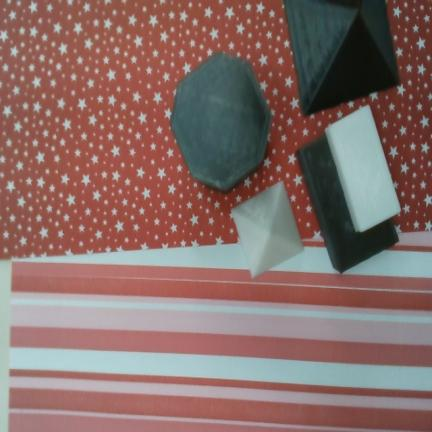Paralelepipedo: (296, 135, 400, 273), (324, 104, 401, 232)
Piramide: (284, 0, 401, 117), (230, 179, 304, 280)
Prisma_hexagonal: (170, 51, 272, 192)
